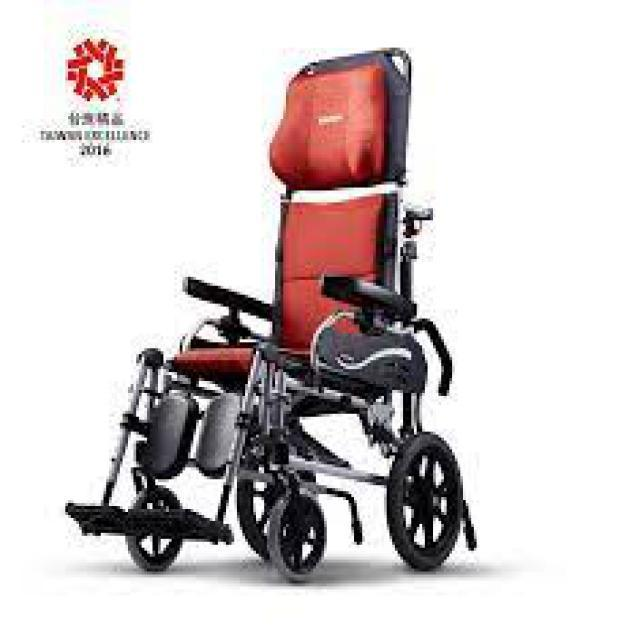wheelchairs: (81, 50, 464, 569)
